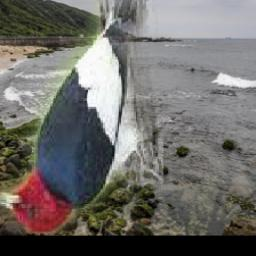Woodpecker: (0, 0, 163, 234)
